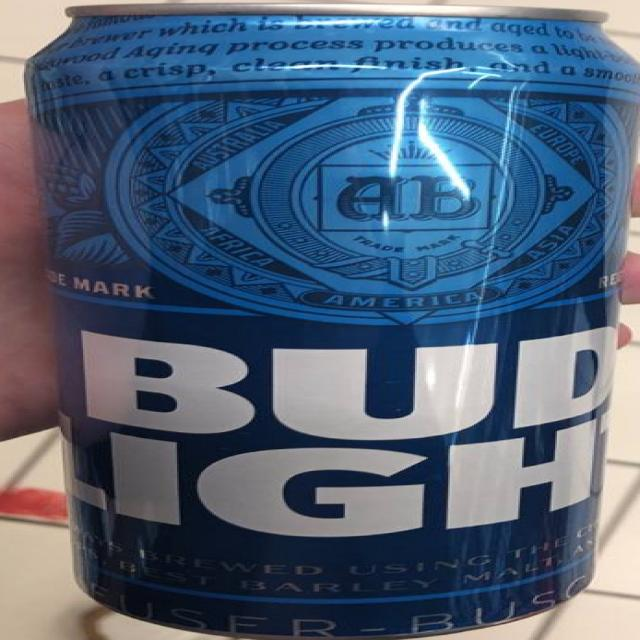Bud Light: (2, 0, 640, 640)
